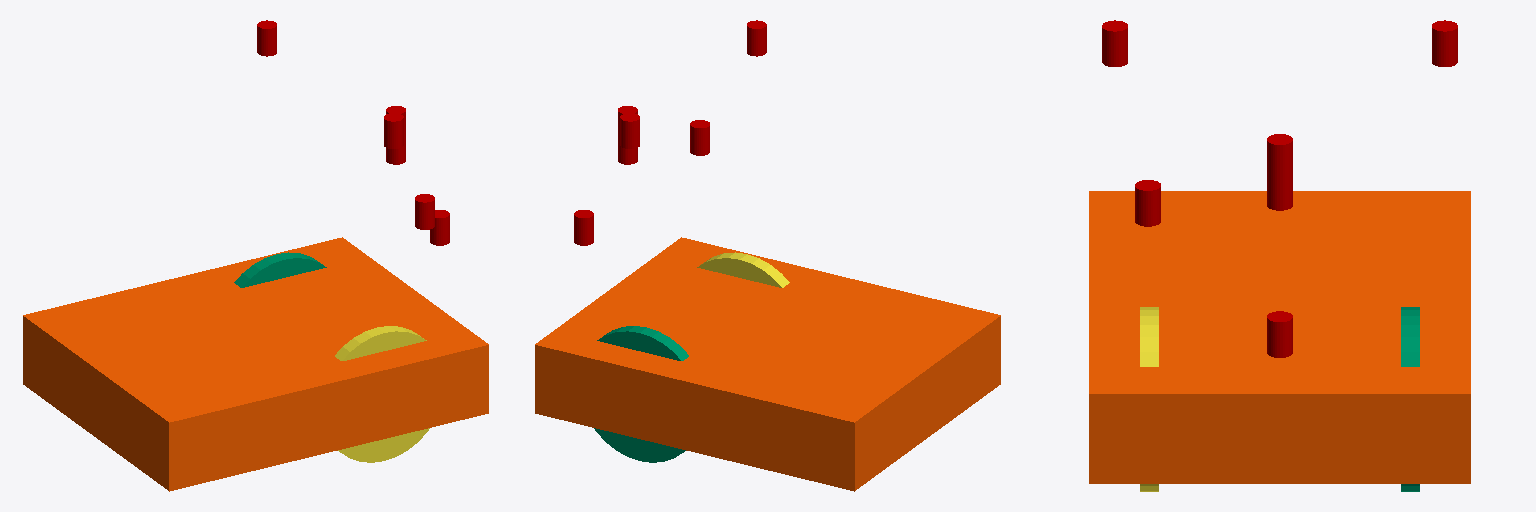
robot.urdf — icart_mini:
<?xml version="1.0" ?>
<!-- =================================================================================== -->
<!-- |    This document was autogenerated by xacro from arno.xacro                     | -->
<!-- |    EDITING THIS FILE BY HAND IS NOT RECOMMENDED                                 | -->
<!-- =================================================================================== -->
<!-- Revolute-Revolute Manipulator -->
<robot name="icart_mini">
  <material name="black">
    <color rgba="0.0 0.0 0.0 1.0"/>
  </material>
  <material name="blue">
    <color rgba="0.0 0.0 0.8 1.0"/>
  </material>
  <material name="green">
    <color rgba="0.0 0.8 0.0 1.0"/>
  </material>
  <material name="grey">
    <color rgba="0.2 0.2 0.2 1.0"/>
  </material>
  <material name="orange">
    <color rgba="1.0 0.4235294117647059 0.0392156862745098 1.0"/>
  </material>
  <material name="brown">
    <color rgba="0.8705882352941177 0.8117647058823529 0.7647058823529411 1.0"/>
  </material>
  <material name="red">
    <color rgba="0.8 0.0 0.0 1.0"/>
  </material>
  <material name="white">
    <color rgba="1.0 1.0 1.0 1.0"/>
  </material>
  <!-- ros_control plugin -->
  <gazebo>
    <plugin filename="libgazebo_ros_control.so" name="gazebo_ros_control">
      <robotSimType>icart_mini_gazebo/ICartMiniHWSim</robotSimType>
    </plugin>
  </gazebo>
  <!-- Left Wheel -->
  <gazebo reference="left_wheel">
    <mu1>1.0</mu1>
    <mu2>1.0</mu2>
    <kp>1000000.0</kp>
    <kd>100.0</kd>
    <minDepth>0.001</minDepth>
    <maxVel>1.0</maxVel>
    <material>Gazebo/Orange</material>
  </gazebo>
  <!-- Base Link -->
  <gazebo reference="base_link">
    <material>Gazebo/Black</material>
  </gazebo>
  <!-- Right Wheel -->
  <gazebo reference="right_wheel">
    <mu1>1.0</mu1>
    <mu2>1.0</mu2>
    <kp>1000000.0</kp>
    <kd>100.0</kd>
    <minDepth>0.001</minDepth>
    <maxVel>1.0</maxVel>
    <material>Gazebo/Orange</material>
  </gazebo>
  <!-- hokuyo -->
  <gazebo reference="ust">
    <sensor name="head_hokuyo_sensor1" type="ray">
      <pose>0 0 0 0 0 0</pose>
      <visualize>false</visualize>
      <update_rate>40</update_rate>
      <ray>
        <scan>
          <horizontal>
            <samples>720</samples>
            <resolution>1</resolution>
            <min_angle>-3 / 4 * 3.141592653589793</min_angle>
            <max_angle>3 / 4 * 3.141592653589793</max_angle>
          </horizontal>
        </scan>
        <range>
          <min>0.10</min>
          <max>30.0</max>
          <resolution>0.01</resolution>
        </range>
        <noise>
          <type>gaussian</type>
          <mean>0.0</mean>
          <stddev>0.01</stddev>
        </noise>
      </ray>
      <plugin filename="libgazebo_ros_laser.so" name="gazebo_ros_head_hokuyo_controller1">
        <topicName>/urg_node1/scan</topicName>
        <frameName>laser1</frameName>
      </plugin>
    </sensor>
  </gazebo>
  <gazebo reference="yvt">
    <sensor name="head_hokuyo_sensor2" type="ray">
      <pose>0 0 0 0 0 0</pose>
      <visualize>true</visualize>
      <update_rate>40</update_rate>
      <ray>
        <scan>
          <horizontal>
            <samples>720</samples>
            <resolution>1</resolution>
            <min_angle>-3 / 4 * 3.141592653589793</min_angle>
            <max_angle>3 / 4 * 3.141592653589793</max_angle>
          </horizontal>
        </scan>
        <range>
          <min>0.10</min>
          <max>30.0</max>
          <resolution>0.01</resolution>
        </range>
        <noise>
          <type>gaussian</type>
          <mean>0.0</mean>
          <stddev>0.01</stddev>
        </noise>
      </ray>
      <plugin filename="libgazebo_ros_laser.so" name="gazebo_ros_head_hokuyo_controller2">
        <topicName>/urg_node2/scan</topicName>
        <frameName>laser2</frameName>
      </plugin>
    </sensor>
  </gazebo>
  <gazebo reference="ylm">
    <sensor name="head_hokuyo_sensor3" type="ray">
      <pose>0 0 0 0 0 0</pose>
      <visualize>false</visualize>
      <update_rate>40</update_rate>
      <ray>
        <scan>
          <horizontal>
            <samples>100</samples>
            <resolution>1</resolution>
            <min_angle>-105 * 3.141592653589793 / 180</min_angle>
            <max_angle>105 * 3.141592653589793 / 180</max_angle>
          </horizontal>
          <vertical>
            <samples>30</samples>
            <resolution>1</resolution>
            <min_angle>-5 * 3.141592653589793 / 180</min_angle>
            <max_angle>35 * 3.141592653589793 / 180</max_angle>
          </vertical>
        </scan>
        <range>
          <min>0.10</min>
          <max>30.0</max>
          <resolution>0.01</resolution>
        </range>
        <noise>
          <type>gaussian</type>
          <mean>0.0</mean>
          <stddev>0.01</stddev>
        </noise>
      </ray>
      <plugin filename="libgazebo_ros_block_laser.so" name="gazebo_ros_head_hokuyo_controller3">
        <topicName>/hokuyo3d1/hokuyo_cloud</topicName>
        <frameName>laser3</frameName>
      </plugin>
    </sensor>
  </gazebo>
  <!--
  <gazebo reference="laser4">
    <sensor type="ray" name="head_hokuyo_sensor4">
      <pose>0 0 0 0 0 0</pose>
      <visualize>false</visualize>
      <update_rate>40</update_rate>
      <ray>
        <scan>
          <horizontal>
            <samples>100</samples>
            <resolution>1</resolution>
            <min_angle>-105 * ${PI} / 180</min_angle>
            <max_angle>105 * ${PI} / 180</max_angle>
          </horizontal>
          <vertical>
            <samples>30</samples>
            <resolution>1</resolution>
            <min_angle>-5 * ${PI} / 180</min_angle>
            <max_angle>35 * ${PI} / 180</max_angle>
          </vertical>
        </scan>
        <range>
          <min>0.10</min>
          <max>30.0</max>
          <resolution>0.01</resolution>
        </range>
        <noise>
          <type>gaussian</type>
          <mean>0.0</mean>
          <stddev>0.01</stddev>
        </noise>
      </ray>
      <plugin name="gazebo_ros_head_hokuyo_controller4" filename="libgazebo_ros_block_laser.so">
        <topicName>/hokuyo3d2/hokuyo_cloud</topicName>
        <frameName>laser4</frameName>
      </plugin>
    </sensor>
  </gazebo>
  -->
  <link name="base_footprint"/>
  <joint name="base_joint" type="fixed">
    <parent link="base_footprint"/>
    <child link="base_link"/>
    <origin rpy="0 0 0" xyz="0.0 0.0 0.010"/>
  </joint>
  <!-- Base Link -->
  <link name="base_link">
    <collision>
      <origin rpy="0 0 0" xyz="-0.17 0 0.1"/>
      <geometry>
        <box size=".73 .58 .15"/>
      </geometry>
    </collision>
    <visual>
      <origin rpy="0 0 0" xyz="-0.17 0 0.1"/>
      <geometry>
        <box size=".73 .58 .15"/>
      </geometry>
      <material name="orange"/>
    </visual>
    <collision name="collision">
      <origin rpy="0 1.5707963267948966 1.5707963267948966" xyz="-0.325 0.0 0.05"/>
      <geometry>
        <cylinder length="0.03" radius="0.04625"/>
      </geometry>
    </collision>
    <visual name="visual">
      <origin rpy="0 1.5707963267948966 1.5707963267948966" xyz="-0.325 0.0 0.05"/>
      <geometry>
        <cylinder length="0.03" radius="0.04625"/>
      </geometry>
    </visual>
    <!-- <inertial>
      <mass value="20"/>
      <origin rpy="0 0 0" xyz="-0.08 0 0"/>
      <inertia ixx="1" ixy="0" ixz="0" iyy="1" iyz="0" izz="1"/>
    </inertial> -->
  </link>
  <link name="left_wheel">
    <collision name="collision">
      <origin rpy="0 1.5707963267948966 1.5707963267948966" xyz="0 0.0 0"/>
      <geometry>
        <cylinder length="0.03" radius="0.1397"/>
      </geometry>
    </collision>
    <visual name="visual">
      <origin rpy="0 1.5707963267948966 1.5707963267948966" xyz="0 0.0 0"/>
      <geometry>
        <cylinder length="0.03" radius="0.1397"/>
      </geometry>
    </visual>
    <inertial>
      <mass value="1"/>
      <origin xyz="0 0.0 0"/>
      <inertia ixx="0.1" ixy="0" ixz="0" iyy="0.1" iyz="0" izz="0.1"/>
    </inertial>
  </link>
  <joint name="left_wheel_hinge" type="revolute">
    <origin rpy="0 0 0" xyz="0 0.198 0.075"/>
    <child link="left_wheel">left_wheel</child>
    <parent link="base_link">base_link</parent>
    <axis xyz="0 1 0"/>
    <limit effort="100" lower="-5000" upper="5000" velocity="100.0"/>
  </joint>
  <link name="right_wheel">
    <collision name="collision">
      <origin rpy="0 1.5707963267948966 1.5707963267948966" xyz="0 0.0 0"/>
      <geometry>
        <cylinder length="0.03" radius="0.1397"/>
      </geometry>
    </collision>
    <visual name="visual">
      <origin rpy="0 1.5707963267948966 1.5707963267948966" xyz="0 0.0 0"/>
      <geometry>
        <cylinder length="0.03" radius="0.1397"/>
      </geometry>
    </visual>
    <inertial>
      <mass value="1"/>
      <origin xyz="0 0.0 0"/>
      <inertia ixx="0.1" ixy="0" ixz="0" iyy="0.1" iyz="0" izz="0.1"/>
    </inertial>
  </link>
  <joint name="right_wheel_hinge" type="revolute">
    <origin rpy="0 0 0" xyz="0 -0.198 0.075"/>
    <child link="right_wheel">right_wheel</child>
    <parent link="base_link">base_link</parent>
    <axis xyz="0 1 0"/>
    <limit effort="100" lower="-5000" upper="5000" velocity="100.0"/>
  </joint>
  <transmission name="tran1">
    <type>transmission_interface/SimpleTransmission</type>
    <joint name="left_wheel_hinge">
      <hardwareInterface>VelocityJointInterface</hardwareInterface>
    </joint>
    <actuator name="left_motor">
      <hardwareInterface>VelocityJointInterface</hardwareInterface>
      <mechanicalReduction>1</mechanicalReduction>
    </actuator>
  </transmission>
  <transmission name="tran2">
    <type>transmission_interface/SimpleTransmission</type>
    <joint name="right_wheel_hinge">
      <hardwareInterface>VelocityJointInterface</hardwareInterface>
    </joint>
    <actuator name="right_motor">
      <hardwareInterface>VelocityJointInterface</hardwareInterface>
      <mechanicalReduction>1</mechanicalReduction>
    </actuator>
  </transmission>
  <joint name="base_scan_joint" type="fixed">
    <parent link="base_link"/>
    <child link="base_scan"/>
    <origin rpy="0 0 0" xyz="0.0 0.0 0.3"/>
  </joint>
  <link name="base_scan"/>
  <joint name="laser_joint1" type="fixed">
    <parent link="base_link"/>
    <child link="ust"/>
    <origin rpy="3.141592653589793 0 1.3" xyz="0 0.25 0.670"/>
  </joint>
  <link name="ust">
    <visual>
      <origin rpy="0 0 0" xyz="0 0 0"/>
      <geometry>
        <cylinder length="0.06" radius="0.02"/>
      </geometry>
      <material name="red"/>
    </visual>
    <collision>
      <origin rpy="0 0 0" xyz="0 0 0"/>
      <geometry>
        <cylinder length="0.06" radius="0.02"/>
      </geometry>
    </collision>
  </link>
  <joint name="laser_joint2" type="fixed">
    <parent link="base_link"/>
    <child link="ust2"/>
    <origin rpy="3.141592653589793 0 -1.3" xyz="0 -0.25 0.67"/>
  </joint>
  <link name="ust2">
    <visual>
      <origin rpy="0 0 0" xyz="0 0 0"/>
      <geometry>
        <cylinder length="0.06" radius="0.02"/>
      </geometry>
      <material name="red"/>
    </visual>
    <collision>
      <origin rpy="0 0 0" xyz="0 0 0"/>
      <geometry>
        <cylinder length="0.06" radius="0.02"/>
      </geometry>
    </collision>
  </link>
  <joint name="laser_joint3" type="fixed">
    <parent link="base_link"/>
    <child link="yvt"/>
    <origin rpy="0 0 0" xyz="0.15 0 0.50"/>
  </joint>
  <link name="yvt">
    <visual>
      <origin rpy="0 0 0" xyz="0 0 0"/>
      <geometry>
        <cylinder length="0.06" radius="0.02"/>
      </geometry>
      <material name="red"/>
    </visual>
    <collision>
      <origin rpy="0 0 0" xyz="0 0 0"/>
      <geometry>
        <cylinder length="0.06" radius="0.02"/>
      </geometry>
    </collision>
  </link>
  <joint name="laser_joint4" type="fixed">
    <parent link="base_link"/>
    <child link="ylm"/>
    <origin rpy="0 0 0" xyz="0.25 0 0.3"/>
  </joint>
  <link name="ylm">
    <visual>
      <origin rpy="0 0 0" xyz="0 0 0"/>
      <geometry>
        <cylinder length="0.06" radius="0.02"/>
      </geometry>
      <material name="red"/>
    </visual>
    <collision>
      <origin rpy="0 0 0" xyz="0 0 0"/>
      <geometry>
        <cylinder length="0.06" radius="0.02"/>
      </geometry>
    </collision>
  </link>
  <joint name="camera_joint" type="fixed">
    <parent link="base_link"/>
    <child link="camera"/>
    <origin rpy="0 0 0" xyz="0.10 -0.20 0.45"/>
  </joint>
  <link name="camera">
    <visual>
      <origin rpy="0 0 0" xyz="0 0 0"/>
      <geometry>
        <cylinder length="0.06" radius="0.02"/>
      </geometry>
      <material name="red"/>
    </visual>
    <collision>
      <origin rpy="0 0 0" xyz="0 0 0"/>
      <geometry>
        <cylinder length="0.06" radius="0.02"/>
      </geometry>
    </collision>
  </link>
  <joint name="gnss_joint" type="fixed">
    <parent link="base_link"/>
    <child link="gnss"/>
    <origin rpy="0 0 0" xyz="0.15 0.0 0.55"/>
  </joint>
  <link name="gnss">
    <visual>
      <origin rpy="0 0 0" xyz="0 0 0"/>
      <geometry>
        <cylinder length="0.06" radius="0.02"/>
      </geometry>
      <material name="red"/>
    </visual>
    <collision>
      <origin rpy="0 0 0" xyz="0 0 0"/>
      <geometry>
        <cylinder length="0.06" radius="0.02"/>
      </geometry>
    </collision>
  </link>
</robot>

--- What the picture shows (computed from the rendered views, not written in the file) ---
3 views of the same robot in one strip: view 1: azimuth 30°, elevation 25°; view 2: azimuth 150°, elevation 25°; view 3: azimuth 270°, elevation 25° (orthographic).
Model icart_mini with 11 links and 10 joints (2 revolute, 8 fixed), rooted at base_footprint, posed all joints at 0.
Visible links, largest first — view 1: base_link, right_wheel, left_wheel, ust2, camera, ust, ylm; view 2: base_link, left_wheel, right_wheel, ust, camera, ylm, ust2; view 3: base_link, left_wheel, right_wheel, camera, ylm, ust, ust2, gnss, yvt.
Boxes of the visible links, x1=… form: base_link: x1=23, y1=237, x2=488, y2=491; right_wheel: x1=335, y1=326, x2=429, y2=462; left_wheel: x1=234, y1=252, x2=326, y2=287; ust2: x1=384, y1=113, x2=403, y2=148; camera: x1=415, y1=194, x2=434, y2=229; ust: x1=257, y1=20, x2=276, y2=56; ylm: x1=430, y1=210, x2=449, y2=245; base_link: x1=535, y1=237, x2=1000, y2=491; left_wheel: x1=594, y1=326, x2=688, y2=462; right_wheel: x1=697, y1=252, x2=789, y2=287; ust: x1=620, y1=113, x2=639, y2=148; camera: x1=690, y1=120, x2=709, y2=155; ylm: x1=574, y1=210, x2=593, y2=245; ust2: x1=747, y1=20, x2=766, y2=56; base_link: x1=1089, y1=191, x2=1470, y2=483; left_wheel: x1=1401, y1=307, x2=1419, y2=491; right_wheel: x1=1140, y1=307, x2=1158, y2=491; camera: x1=1135, y1=180, x2=1160, y2=226; ylm: x1=1267, y1=311, x2=1292, y2=357; ust: x1=1432, y1=20, x2=1457, y2=66; ust2: x1=1102, y1=20, x2=1127, y2=66; gnss: x1=1267, y1=134, x2=1292, y2=180; yvt: x1=1267, y1=171, x2=1292, y2=210.
Size in the robot's own frame: 0.805 by 0.58 by 0.7647 metres.
Geometry: primitives only (box / cylinder / sphere), no mesh files.
